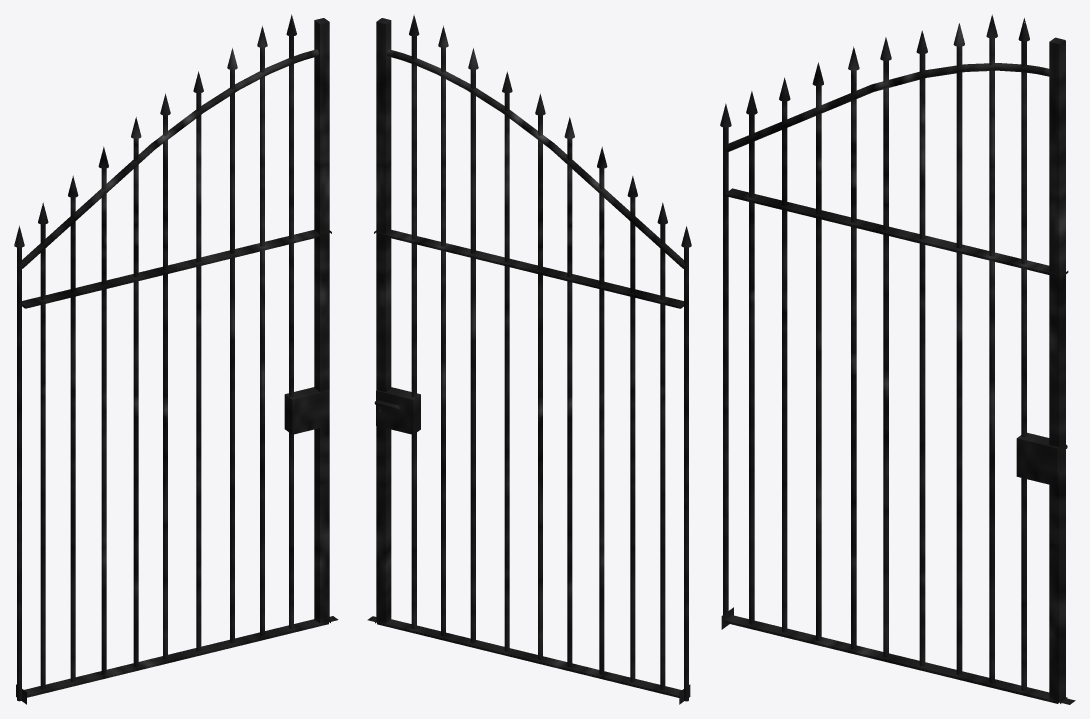
The model's file is RejaIzq.obj.
The picture shows the model from 3 angles, left to right: view 1: azimuth 30°, elevation 25°; view 2: azimuth 150°, elevation 25°; view 3: azimuth 330°, elevation 25°; orthographic projection. The views are drawn at different scales.
Visible parts, largest first — view 1: reja_izq; view 2: reja_izq; view 3: reja_izq.
Boxes of the visible parts, left/top/right/bottom form: reja_izq: left=14, top=14, right=338, bottom=704; reja_izq: left=367, top=14, right=691, bottom=704; reja_izq: left=720, top=14, right=1075, bottom=704.
Bounding box in the file's own units: 1.04 × 1.93 × 0.0815.
1 material, 1 textured.
